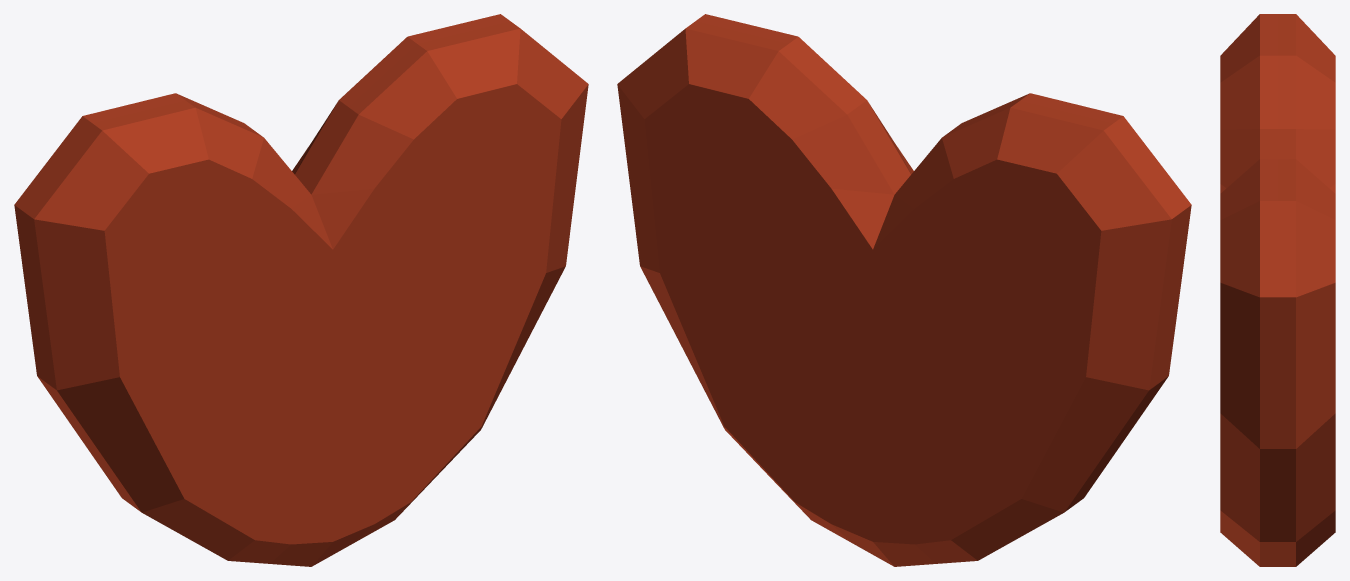
Rendered from heart.fbx.
3 renders of one model, left to right at view 1: azimuth 30°, elevation 25°; view 2: azimuth 150°, elevation 25°; view 3: azimuth 270°, elevation 25°, orthographic. The views are drawn at different scales.
Visible parts, largest first — view 1: Heart; view 2: Heart; view 3: Heart.
Part boxes in pixels (bbox=[...]): Heart: bbox=[14, 14, 588, 566]; Heart: bbox=[617, 14, 1191, 566]; Heart: bbox=[1220, 14, 1335, 566].
Size of the model in its own units: 0.5103 by 0.1005 by 0.4288.
